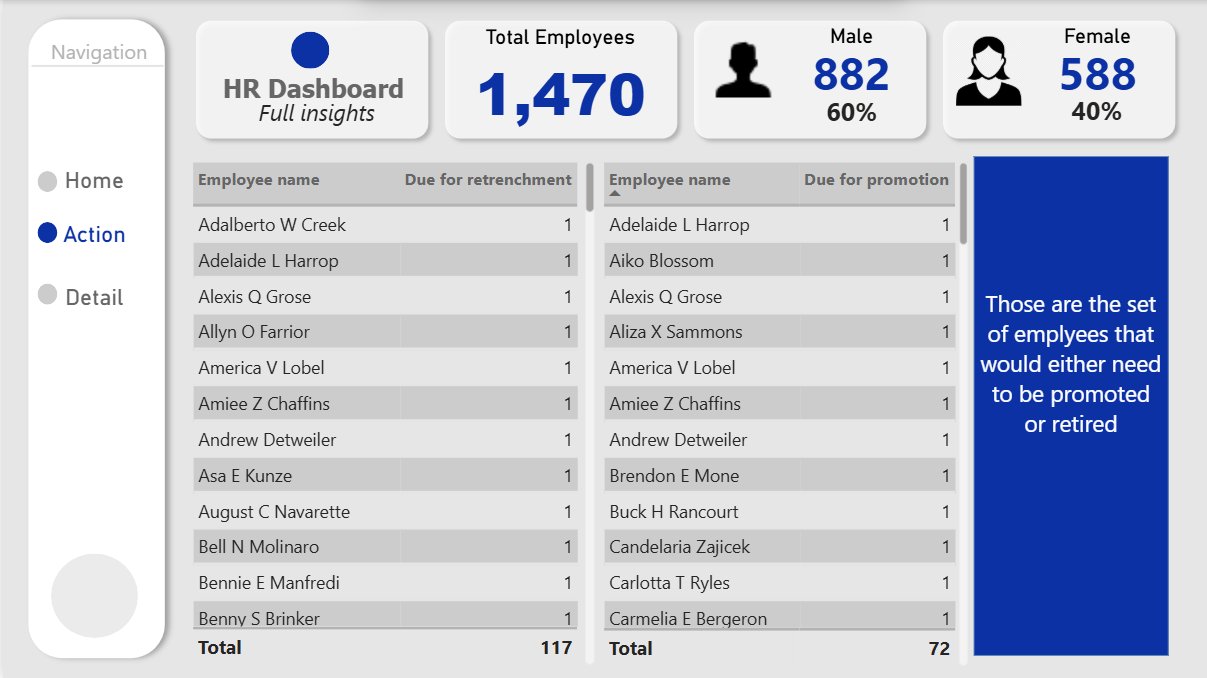

Layout of this report page (visuals, bound fields, positions):
{"tool":"powerbi","page":{"name":"Action","canvas":[1280,720],"ordinal":2},"visuals":[{"type":"shape","box":[1028.6,166.2,207,530.1],"z":0},{"type":"shape","box":[16.5,9.6,166.5,699.2],"z":1000},{"type":"shape","box":[195.4,12.4,264.3,143.1],"z":2000},{"type":"shape","box":[459.7,12.4,264.3,143.1],"z":3000},{"type":"shape","box":[724,12.4,264.3,143.1],"z":4000},{"type":"shape","box":[988.2,12.4,264.3,143.1],"z":5000},{"type":"textbox","box":[209.7,71.2,238.7,51.4],"z":6000},{"type":"textbox","box":[36.9,33,130.5,51.4],"z":7000},{"type":"textbox","box":[209.7,97.6,251.9,55.4],"z":8000},{"type":"shape","box":[305.9,33,40.9,39.6],"z":9000},{"type":"card","title":"Total Employees","fields":{"Values":["All Measures.Total Emp"]},"box":[468,27.5,246.4,112.9],"z":10000},{"type":"card","title":"Male","fields":{"Values":["All Measures.Male"]},"box":[814.8,26.2,170.7,75.7],"z":11000},{"type":"card","fields":{"Values":["All Measures.Male %"]},"box":[834.1,90.8,132.1,55.1],"z":12000},{"type":"card","title":"Female","fields":{"Values":["All Measures.Female"]},"box":[1068.7,26.2,183.1,75.7],"z":13000},{"type":"card","fields":{"Values":["All Measures.Female %"]},"box":[1083.9,90.8,152.8,53.7],"z":14000},{"type":"image","box":[736.3,26.2,95,90.8],"z":15000},{"type":"image","box":[1004.7,33,79.8,84],"z":16000},{"type":"tableEx","fields":{"Values":["HR employee data.Emplyee name","All Measures.Due for retirment"]},"box":[195.4,166.5,436.3,542.3],"z":17000},{"type":"tableEx","fields":{"Values":["HR employee data.Emplyee name","All Measures.Due for promotion"]},"box":[631.7,166.5,396.4,543.7],"z":18000},{"type":"textbox","box":[1029.3,299.6,206.6,217.4],"z":19000},{"type":"shape","box":[36.9,300.7,21.1,22.4],"z":20000},{"type":"actionButton","title":"Detail","box":[27.7,300.7,139.8,58],"z":21000},{"type":"shape","box":[36.9,236,21.1,22.4],"z":22000},{"type":"actionButton","title":"Action","box":[27.7,233.4,139.8,65.9],"z":23000},{"type":"shape","box":[36.9,180.7,21.1,22.4],"z":24000},{"type":"actionButton","title":"Home","box":[27.7,176.7,139.8,56.7],"z":25000},{"type":"shape","box":[51.4,586.8,92.3,89.7],"z":26000},{"type":"shape","box":[30.2,61.6,140.1,15.7],"z":27000}]}

Visuals, with their boxes on the page's 1280x720 design canvas (x1, y1, x2, y2). These are canvas units, not pixel positions in the 1207x678 screenshot, which may show the page scaled, cropped or inside an application window:
shape: left=1029, top=166, right=1236, bottom=696
shape: left=16, top=10, right=183, bottom=709
shape: left=195, top=12, right=460, bottom=156
shape: left=460, top=12, right=724, bottom=156
shape: left=724, top=12, right=988, bottom=156
shape: left=988, top=12, right=1252, bottom=156
textbox: left=210, top=71, right=448, bottom=123
textbox: left=37, top=33, right=167, bottom=84
textbox: left=210, top=98, right=462, bottom=153
shape: left=306, top=33, right=347, bottom=73
"Total Employees" card: left=468, top=28, right=714, bottom=140
"Male" card: left=815, top=26, right=986, bottom=102
card - All Measures.Male %: left=834, top=91, right=966, bottom=146
"Female" card: left=1069, top=26, right=1252, bottom=102
card - All Measures.Female %: left=1084, top=91, right=1237, bottom=144
image: left=736, top=26, right=831, bottom=117
image: left=1005, top=33, right=1084, bottom=117
tableEx - HR employee data.Emplyee name x All Measures.Due for retirment: left=195, top=166, right=632, bottom=709
tableEx - HR employee data.Emplyee name x All Measures.Due for promotion: left=632, top=166, right=1028, bottom=710
textbox: left=1029, top=300, right=1236, bottom=517
shape: left=37, top=301, right=58, bottom=323
"Detail" actionButton: left=28, top=301, right=168, bottom=359
shape: left=37, top=236, right=58, bottom=258
"Action" actionButton: left=28, top=233, right=168, bottom=299
shape: left=37, top=181, right=58, bottom=203
"Home" actionButton: left=28, top=177, right=168, bottom=233
shape: left=51, top=587, right=144, bottom=676
shape: left=30, top=62, right=170, bottom=77
